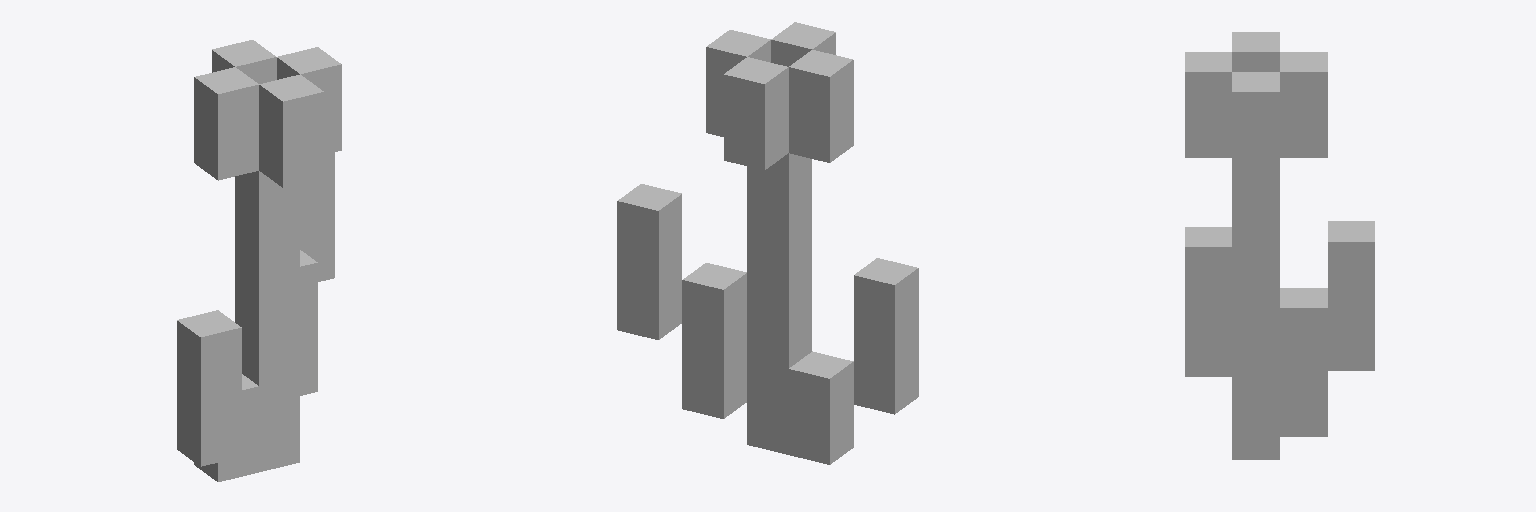
The model's file is purpleflower.obj.
3 views of the same model, side by side, from view 1: azimuth 30°, elevation 25°; view 2: azimuth 150°, elevation 25°; view 3: azimuth 270°, elevation 25° (orthographic).
Parts seen in each view (by area): view 1: Flower.002; view 2: Flower.002; view 3: Flower.002.
Boxes of the visible parts, x1=… form: Flower.002: x1=177, y1=40, x2=341, y2=481; Flower.002: x1=617, y1=22, x2=918, y2=464; Flower.002: x1=1185, y1=32, x2=1374, y2=459.
Size of the model in its own units: 5 by 9 by 4.